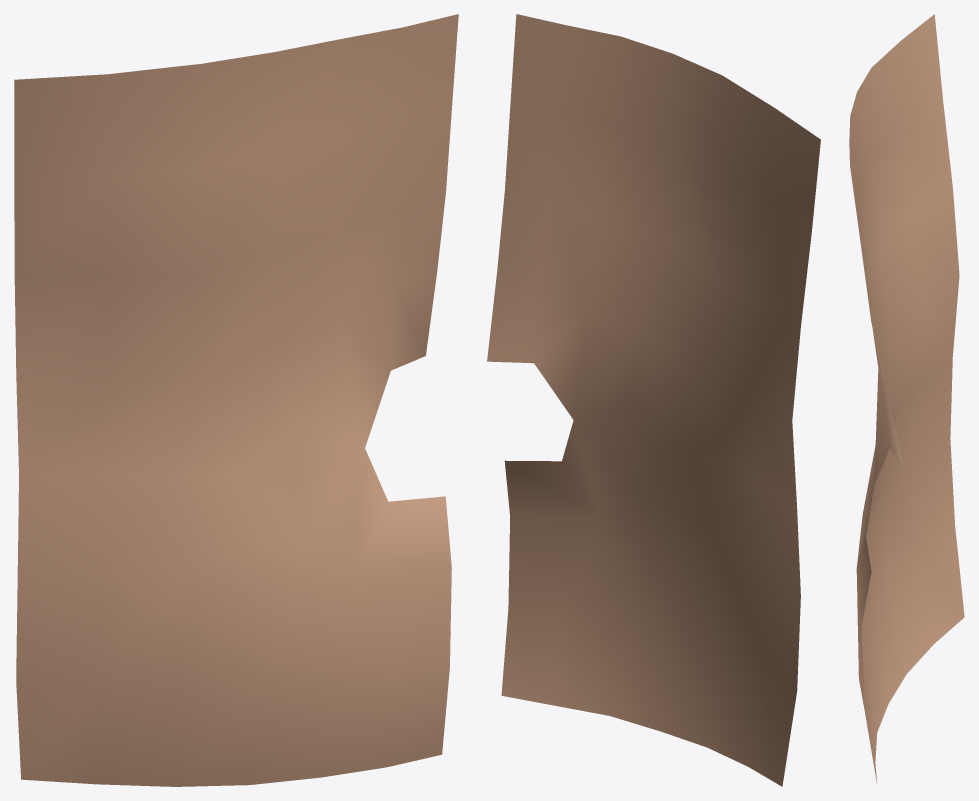
The model's file is umbilical-region-r.glb.
3 renders of one model, left to right at view 1: azimuth 30°, elevation 25°; view 2: azimuth 150°, elevation 25°; view 3: azimuth 270°, elevation 25°, orthographic. The views are drawn at different scales.
Visible parts, largest first — view 1: Umbilical region.r; view 2: Umbilical region.r; view 3: Umbilical region.r.
Boxes of the visible parts, x1=… form: Umbilical region.r: x1=14, y1=14, x2=458, y2=786; Umbilical region.r: x1=487, y1=14, x2=820, y2=786; Umbilical region.r: x1=849, y1=14, x2=964, y2=784.
Size of the model in its own units: 0.075 by 0.1378 by 0.0231.
